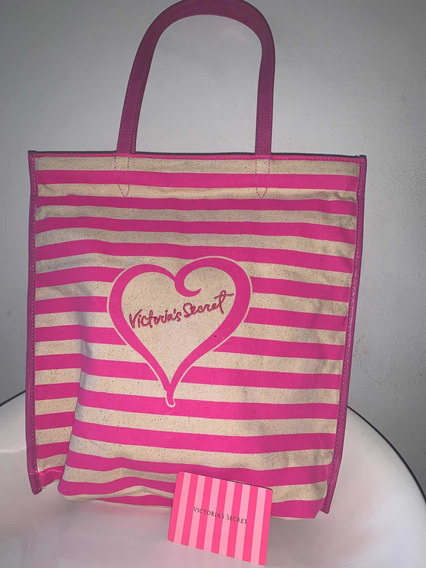cartera: (24, 2, 370, 522)
